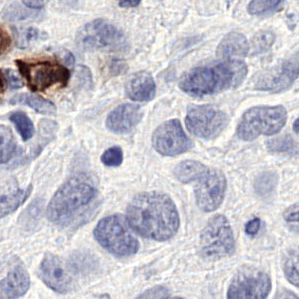Lymphocyte: (13, 55, 69, 91)
